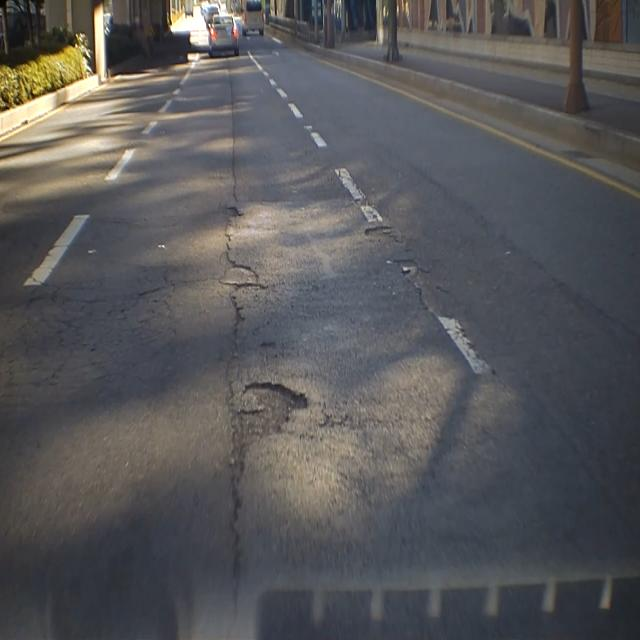Pothole: (227, 380, 313, 513), (222, 192, 265, 379), (361, 222, 404, 254)
